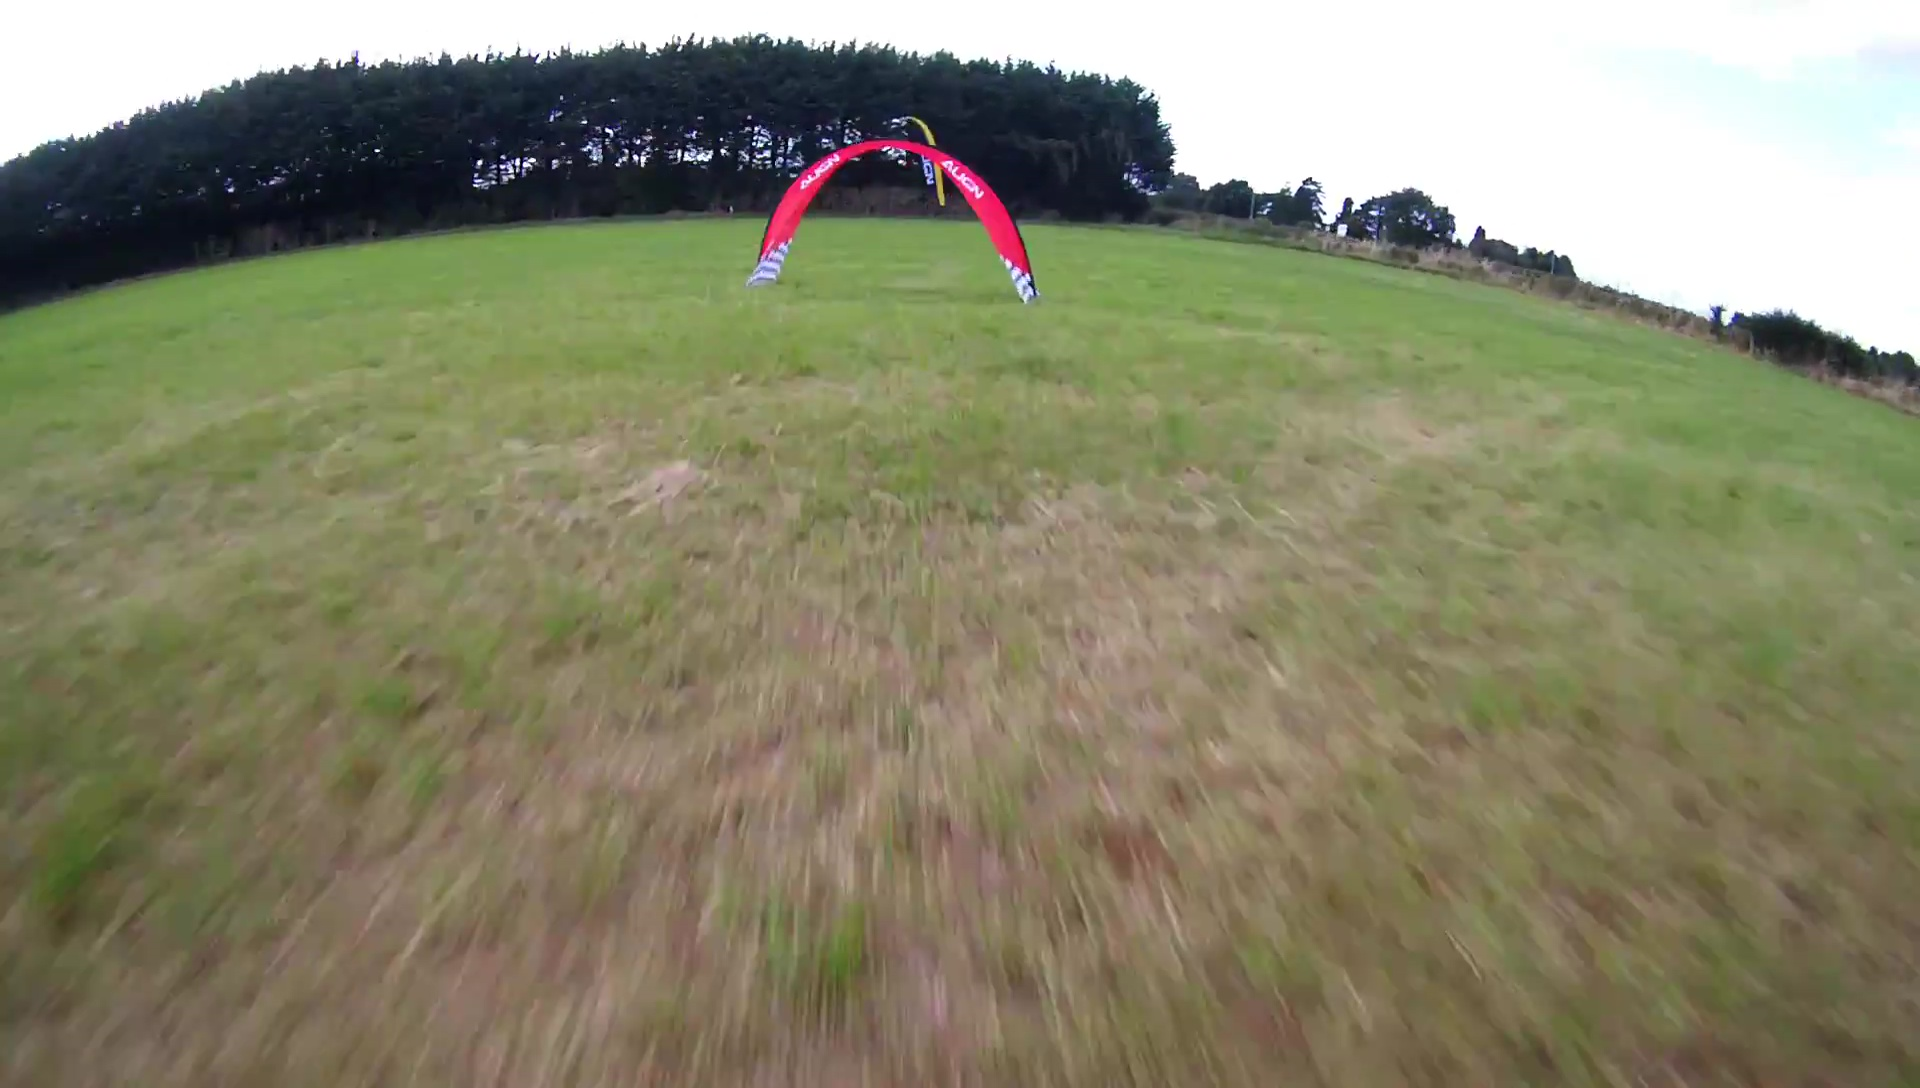gate: (748, 137, 1040, 305)
